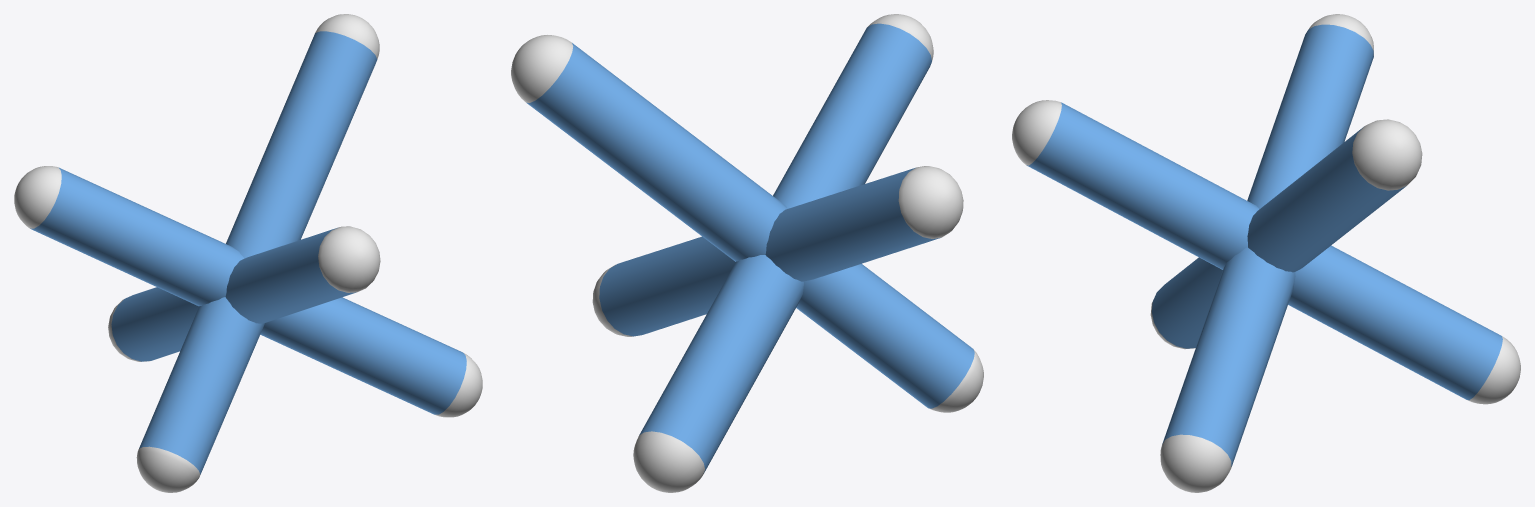
The model's file is CzechHedgehog.fbx.
The picture shows the model from 3 angles, left to right: view 1: azimuth 30°, elevation 25°; view 2: azimuth 150°, elevation 25°; view 3: azimuth 270°, elevation 25°; orthographic projection. The views are drawn at different scales.
Visible parts, largest first — view 1: CzechHedgehog1; view 2: CzechHedgehog1; view 3: CzechHedgehog1.
Part boxes in pixels (<box>): CzechHedgehog1: <box>14,14,482,492</box>; CzechHedgehog1: <box>511,14,983,492</box>; CzechHedgehog1: <box>1012,14,1520,492</box>.
Bounding box in the file's own units: 56.02 × 46.14 × 58.72.
